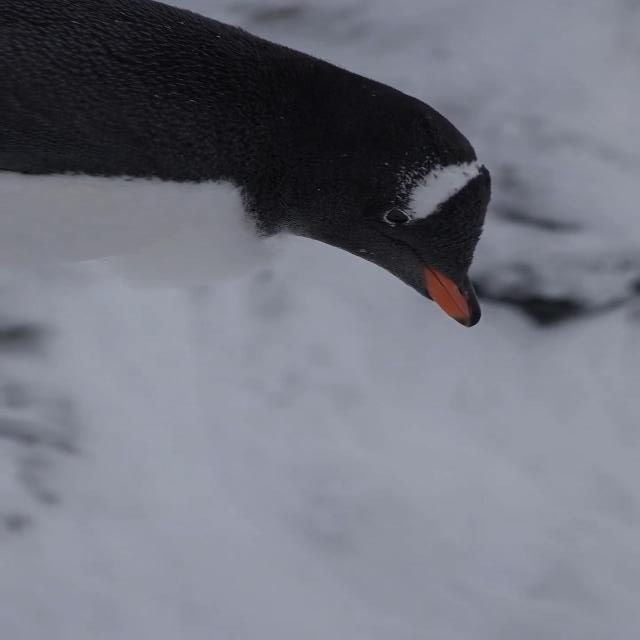penguin: (3, 3, 494, 330)
